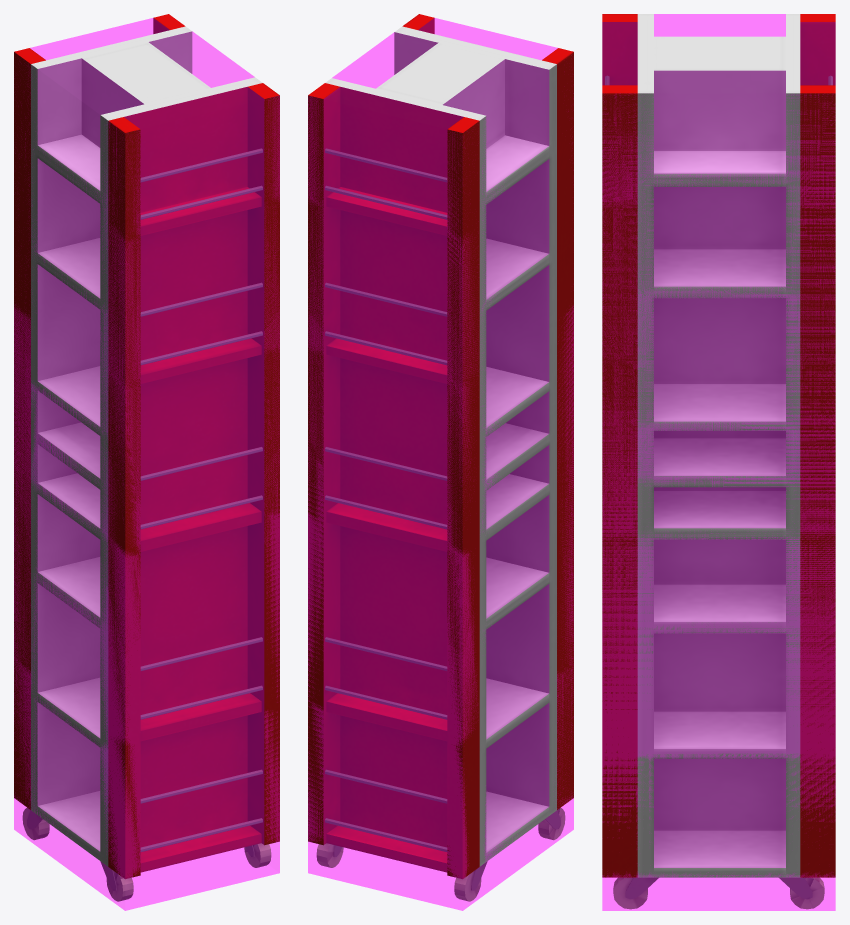
File: magazine_rack_B.fbx
The picture shows the model from 3 angles, left to right: view 1: azimuth 30°, elevation 25°; view 2: azimuth 150°, elevation 25°; view 3: azimuth 270°, elevation 25°; orthographic projection. The views are drawn at different scales.
Visible parts, largest first — view 1: magazine_rack_B, magazine_rack_B_boundingBox; view 2: magazine_rack_B, magazine_rack_B_boundingBox; view 3: magazine_rack_B, magazine_rack_B_boundingBox.
Boxes of the visible parts, x1,y1,x2,y2 form: magazine_rack_B: (14, 14, 279, 901); magazine_rack_B_boundingBox: (14, 18, 279, 910); magazine_rack_B: (308, 14, 573, 901); magazine_rack_B_boundingBox: (308, 18, 573, 910); magazine_rack_B: (602, 14, 835, 909); magazine_rack_B_boundingBox: (602, 14, 835, 910).
Bounding box in the file's own units: 0.4341 × 2.09 × 0.5399.
Materials: 2 (1 with a texture image).
